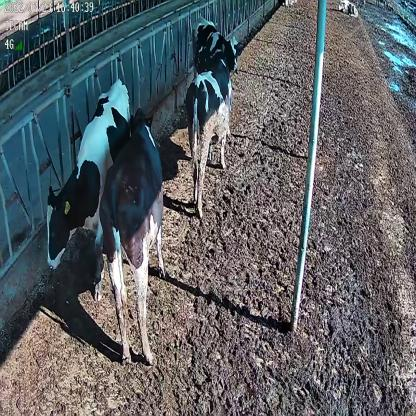cow: (45, 76, 130, 302), (98, 110, 166, 368), (185, 43, 232, 217), (191, 11, 240, 79), (338, 0, 358, 18)
